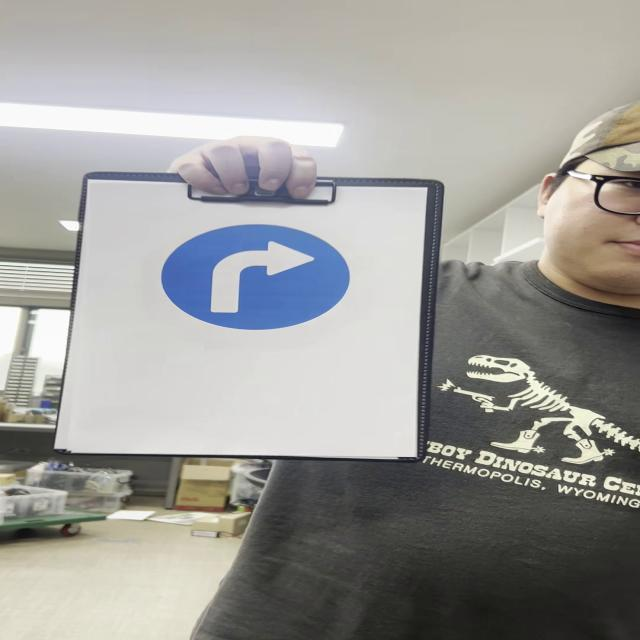right: (165, 224, 353, 333)
